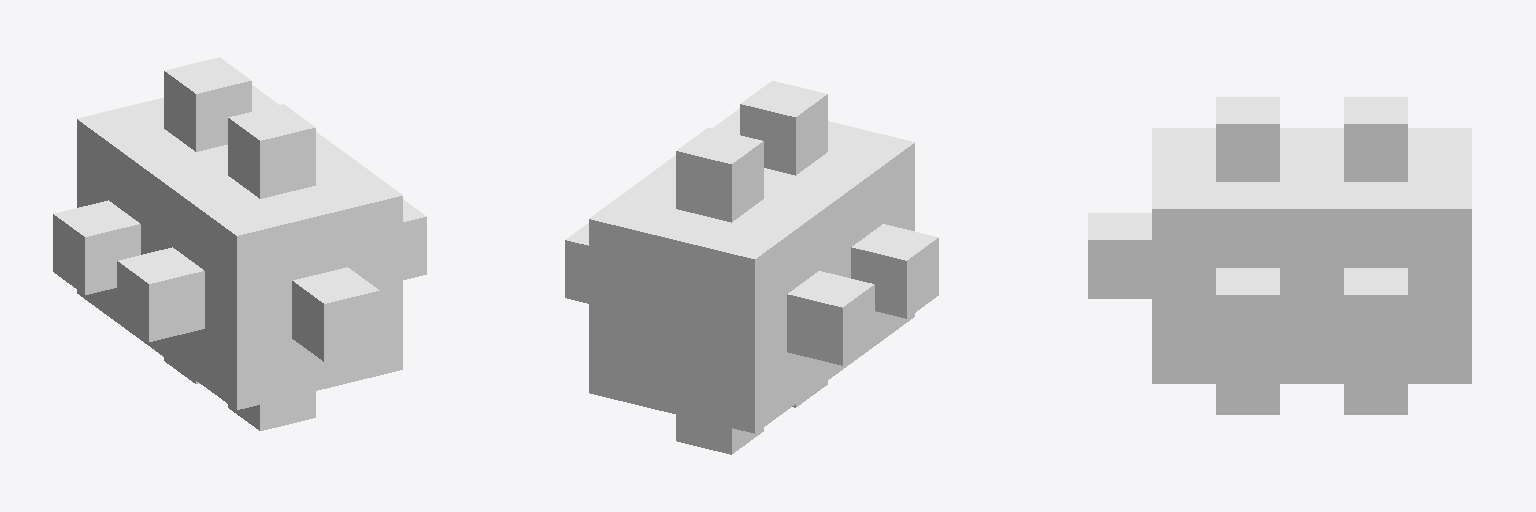
File: TongueEnd-3.obj
3 renders of one model, left to right at view 1: azimuth 30°, elevation 25°; view 2: azimuth 150°, elevation 25°; view 3: azimuth 270°, elevation 25°, orthographic.
Visible parts, largest first — view 1: object 1; view 2: object 1; view 3: object 1.
Part boxes in pixels (x1,y1,x2,y2): object 1: (53,57,426,430); object 1: (565,81,938,454); object 1: (1088,97,1471,414).
Bounding box in the file's own units: 0.5 × 0.5 × 0.6.